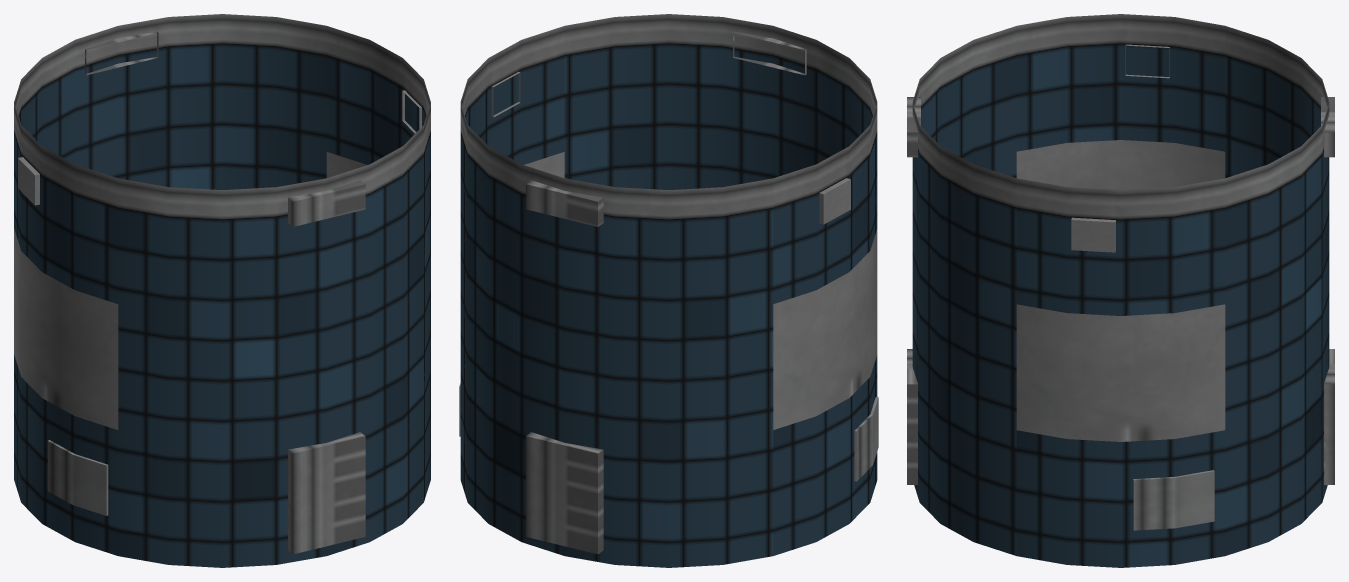
The model's file is basic 1p5 crew_naked_plain.obj.
3 renders of one model, left to right at view 1: azimuth 30°, elevation 25°; view 2: azimuth 150°, elevation 25°; view 3: azimuth 270°, elevation 25°, orthographic.
Visible parts, largest first — view 1: 1; view 2: 1; view 3: 1.
Part boxes in pixels (bbox=[...]): 1: bbox=[14, 14, 430, 567]; 1: bbox=[459, 14, 878, 567]; 1: bbox=[907, 14, 1334, 567].
Size of the model in its own units: 1.92 by 1.88 by 1.92.
